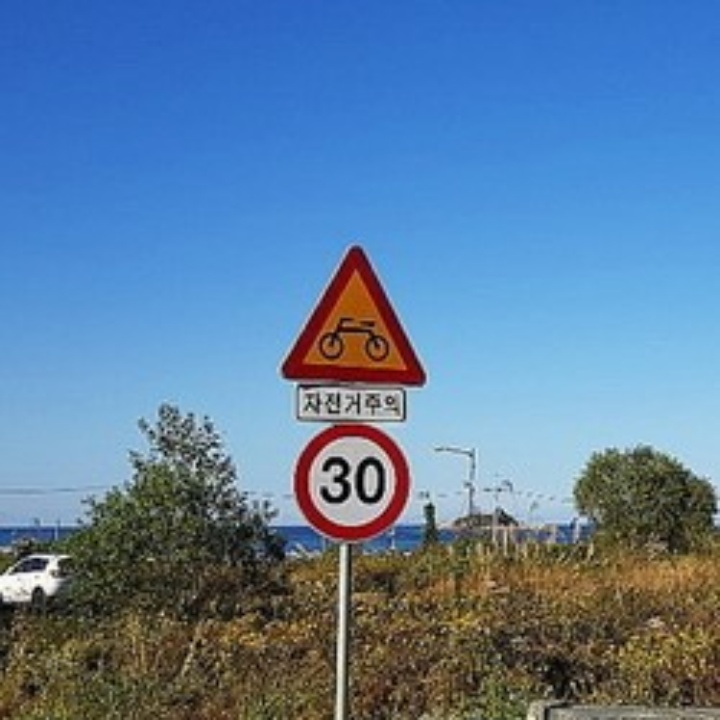bicycle: (284, 245, 423, 386)
